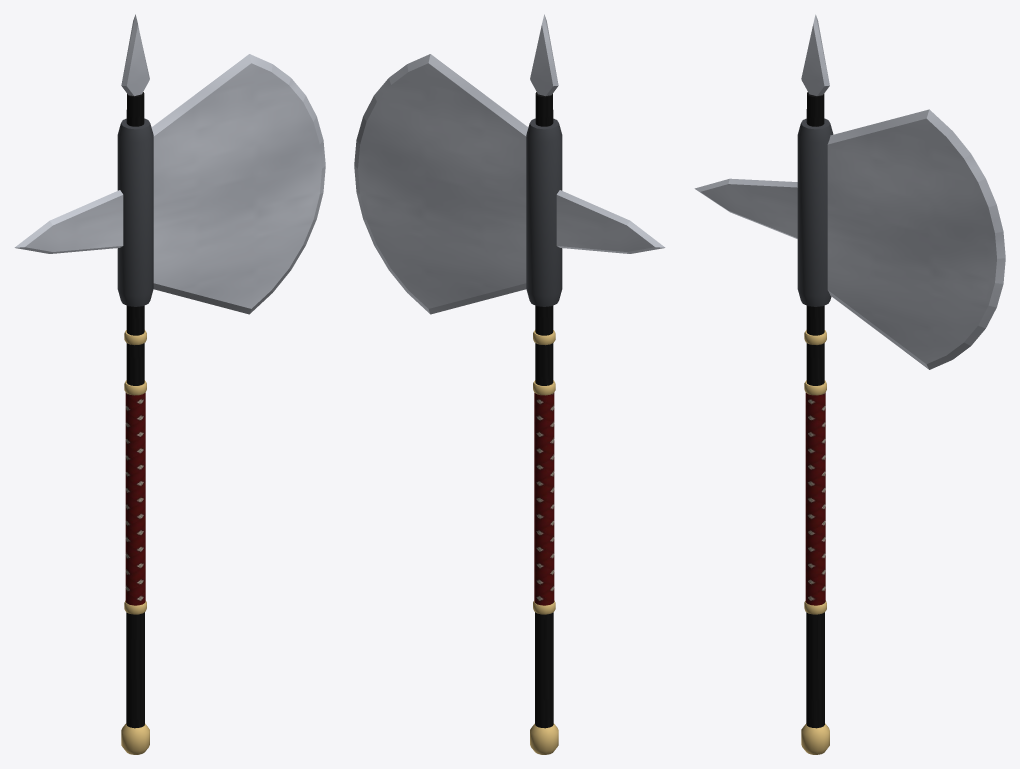
The model's file is axe.glb.
3 renders of one model, left to right at view 1: azimuth 30°, elevation 25°; view 2: azimuth 150°, elevation 25°; view 3: azimuth 330°, elevation 25°, orthographic.
Parts seen in each view (by area): view 1: axe; view 2: axe; view 3: axe.
Boxes of the visible parts, left/top/right/bottom form: axe: left=14, top=14, right=325, bottom=754; axe: left=354, top=14, right=665, bottom=754; axe: left=694, top=14, right=1005, bottom=754.
Size of the model in its own units: 1.1 by 2.49 by 0.11.
5 materials, 3 textured.
